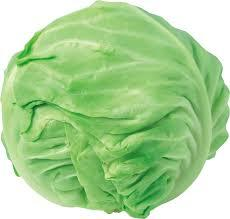non-mango: (0, 0, 229, 218)
